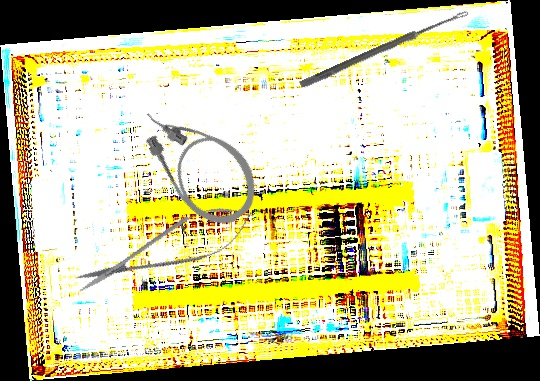Cannula: (126, 83, 272, 239)
Micro Scissor: (67, 191, 262, 308)
Surgical Spoon: (299, 7, 470, 90)
